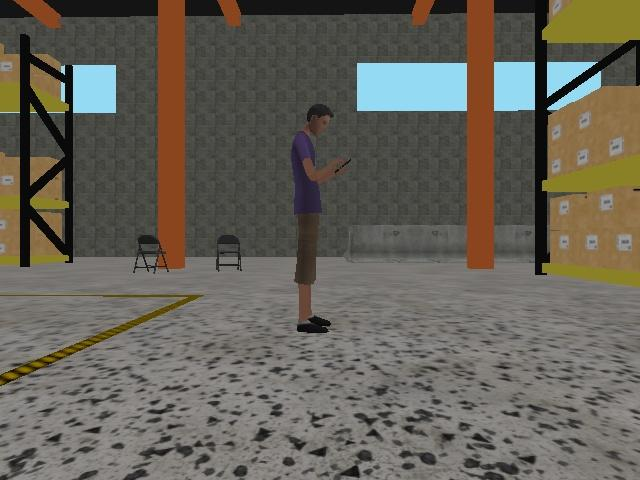chair: (132, 233, 171, 275), (214, 233, 244, 273)
person: (288, 102, 353, 336)
